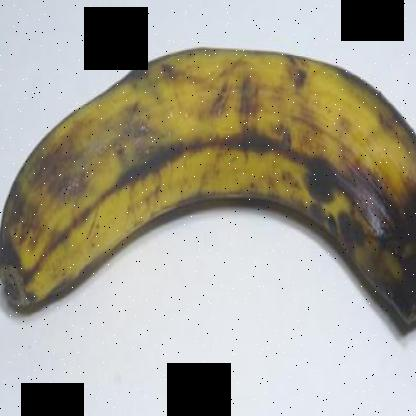overripe: (1, 30, 415, 381)
rotten: (303, 98, 415, 331)
